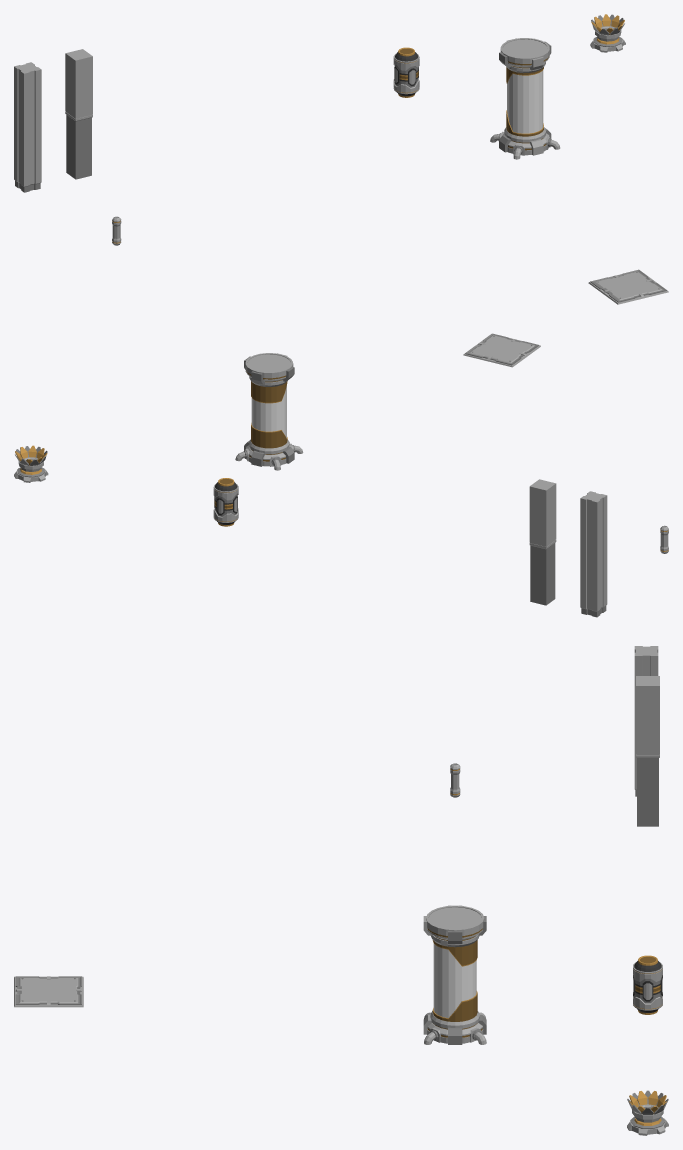
Rendered from scifikit.glb.
The picture shows the model from 3 angles, top to bottom: view 1: azimuth 30°, elevation 25°; view 2: azimuth 150°, elevation 25°; view 3: azimuth 270°, elevation 25°; orthographic projection. The views are drawn at different scales.
Parts seen in each view (by area): view 1: Props_Pod, Column_2, Column_1, FloorTile_Basic, Props_Capsule, Props_Teleporter_1; view 2: Props_Pod, Column_2, Column_1, FloorTile_Basic, Props_Capsule, Props_Teleporter_1; view 3: Props_Pod, Column_1, FloorTile_Basic, Props_Capsule, Props_Teleporter_1, Column_2.
Part boxes in pixels (bbox=[...]): Props_Pod: bbox=[490, 38, 560, 159]; Column_2: bbox=[14, 62, 41, 192]; Column_1: bbox=[65, 49, 92, 179]; FloorTile_Basic: bbox=[588, 269, 668, 304]; Props_Capsule: bbox=[393, 47, 419, 97]; Props_Teleporter_1: bbox=[590, 14, 625, 52]; Props_Pod: bbox=[235, 353, 303, 470]; Column_2: bbox=[580, 491, 607, 617]; Column_1: bbox=[529, 479, 556, 605]; FloorTile_Basic: bbox=[463, 333, 540, 367]; Props_Capsule: bbox=[213, 478, 238, 526]; Props_Teleporter_1: bbox=[14, 445, 48, 482]; Props_Pod: bbox=[423, 905, 486, 1044]; Column_1: bbox=[636, 676, 659, 826]; FloorTile_Basic: bbox=[14, 976, 83, 1007]; Props_Capsule: bbox=[633, 955, 662, 1014]; Props_Teleporter_1: bbox=[627, 1090, 668, 1135]; Column_2: bbox=[634, 646, 658, 796].
Bounding box in the file's own units: 23.67 × 4.47 × 18.79.
